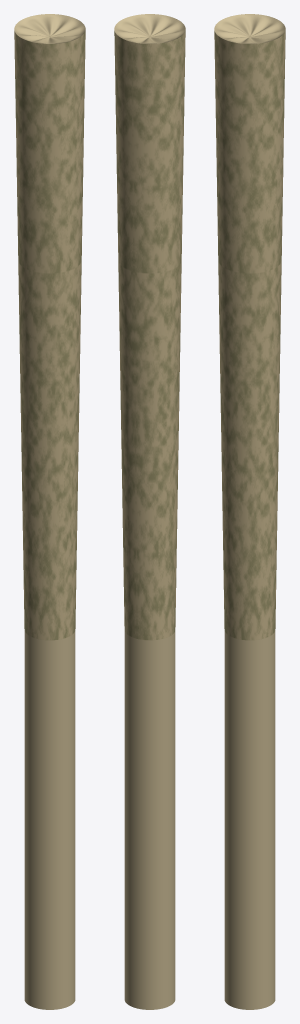
The picture shows the model from 3 angles, left to right: view 1: azimuth 90°, elevation 25°; view 2: azimuth 150°, elevation 25°; view 3: azimuth 270°, elevation 25°; orthographic projection.
Parts seen in each view (by area): view 1: cone0; view 2: cone0; view 3: cone0.
Part boxes in pixels (left/top/right/bottom): cone0: left=14, top=14, right=85, bottom=1009; cone0: left=114, top=14, right=185, bottom=1009; cone0: left=214, top=14, right=285, bottom=1009.
Size of the model in its own units: 0.007 by 0.105 by 0.007.
Materials: 2 (1 with a texture image).
